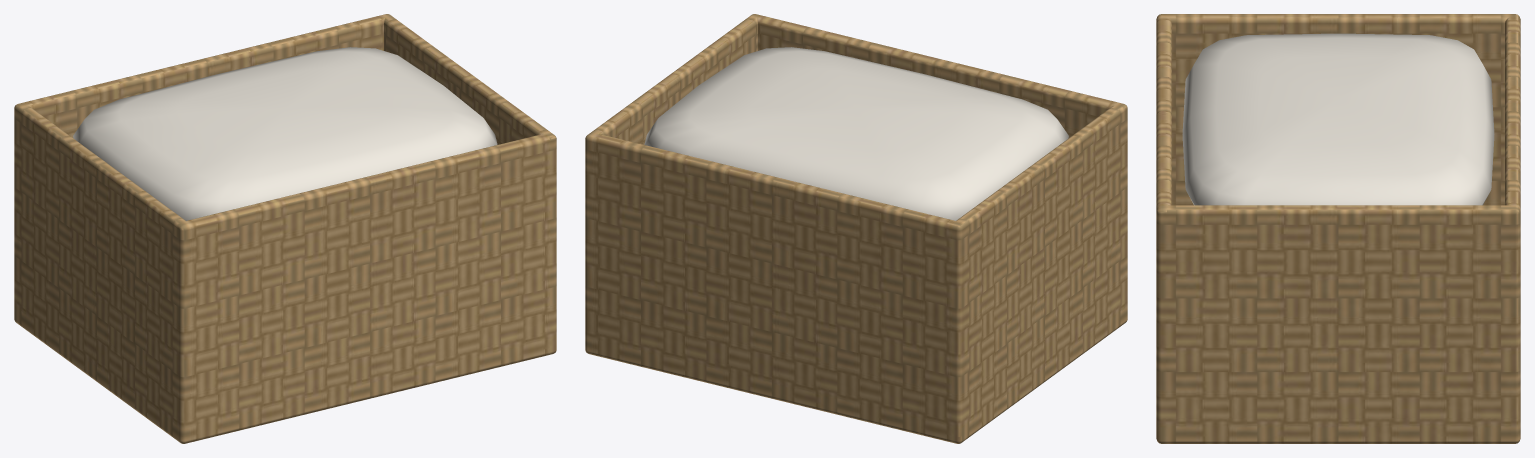
The model's file is basket.glb.
The picture shows the model from 3 angles, left to right: view 1: azimuth 30°, elevation 25°; view 2: azimuth 150°, elevation 25°; view 3: azimuth 270°, elevation 25°; orthographic projection. The views are drawn at different scales.
Parts seen in each view (by area): view 1: basket_basket, basket_blanket; view 2: basket_basket, basket_blanket; view 3: basket_basket, basket_blanket.
Boxes of the visible parts, <box> form: basket_basket: <box>14,14,556,443</box>; basket_blanket: <box>73,47,497,220</box>; basket_basket: <box>585,14,1127,443</box>; basket_blanket: <box>644,47,1068,220</box>; basket_basket: <box>1156,14,1520,443</box>; basket_blanket: <box>1182,33,1494,205</box>.
Bounding box in the file's own units: 0.36 × 0.21 × 0.28.
2 materials, 1 textured.
